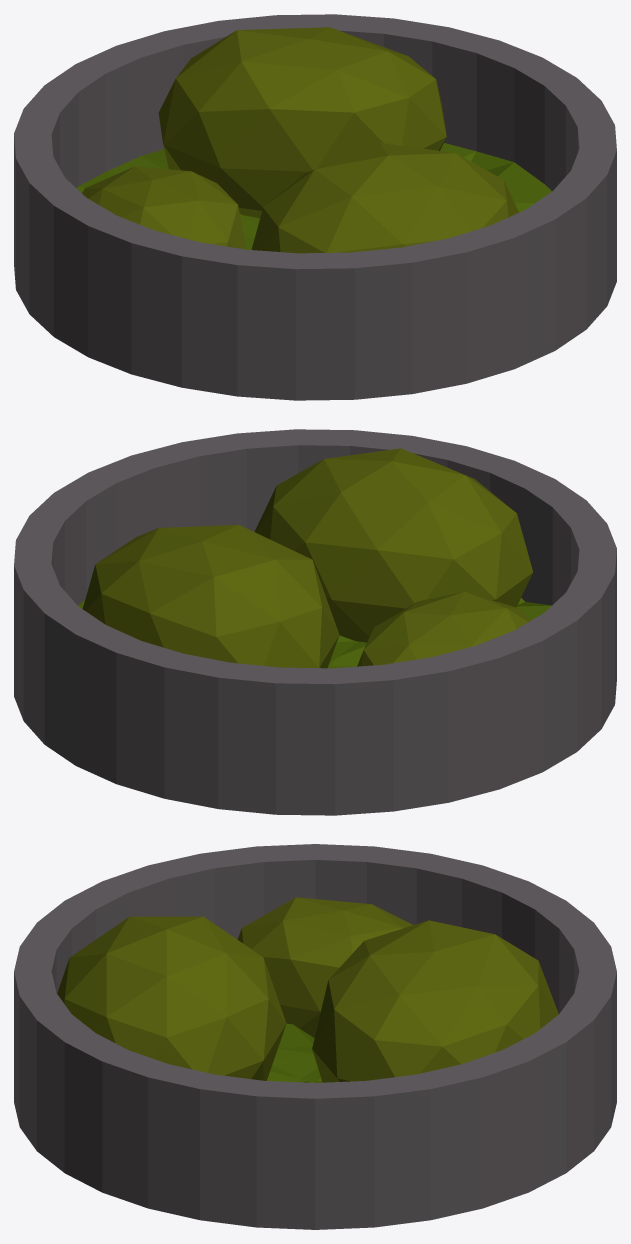
Rendered from decor_2.glb.
3 renders of one model, top to bottom at view 1: azimuth 30°, elevation 25°; view 2: azimuth 150°, elevation 25°; view 3: azimuth 270°, elevation 25°, orthographic.
Visible parts, largest first — view 1: Cylinder, Icosphere.001, Icosphere, Icosphere.002; view 2: Cylinder, Icosphere, Icosphere.001, Icosphere.002; view 3: Cylinder, Icosphere.001, Icosphere, Icosphere.002.
Boxes of the visible parts, left/top/right/bottom form: Cylinder: left=14, top=14, right=616, bottom=400; Icosphere.001: left=158, top=27, right=446, bottom=218; Icosphere: left=251, top=142, right=518, bottom=253; Icosphere.002: left=82, top=166, right=245, bottom=249; Cylinder: left=14, top=429, right=616, bottom=815; Icosphere: left=254, top=448, right=533, bottom=642; Icosphere.001: left=82, top=525, right=339, bottom=668; Icosphere.002: left=357, top=591, right=531, bottom=666; Cylinder: left=14, top=844, right=616, bottom=1229; Icosphere.001: left=312, top=920, right=558, bottom=1082; Icosphere: left=57, top=916, right=286, bottom=1080; Icosphere.002: left=237, top=897, right=413, bottom=1037.
Bounding box in the file's own units: 5 × 1.79 × 5.
